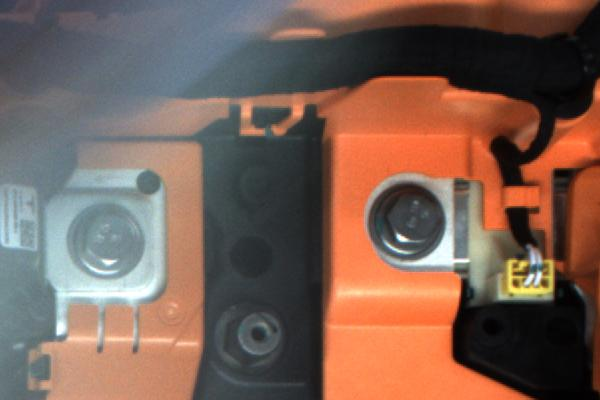nut_b: (358, 176, 457, 269), (66, 202, 151, 277)
